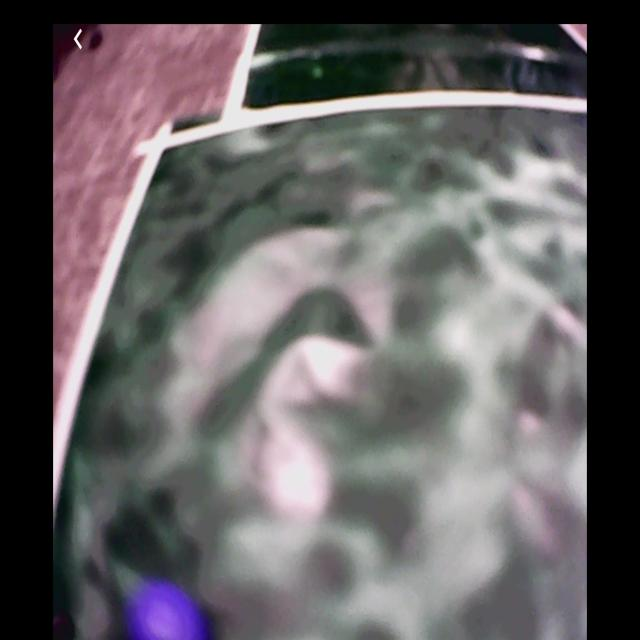ball: (120, 584, 208, 640)
